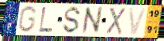G: (17, 5, 38, 34)
L: (38, 6, 55, 33)
N: (81, 6, 103, 36)
S: (61, 6, 83, 35)
V: (128, 7, 148, 36)
X: (105, 7, 126, 36)
